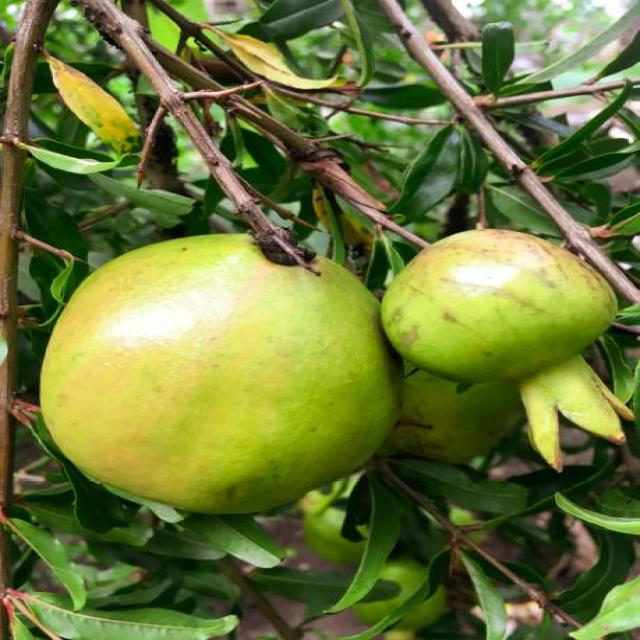Unripe: (35, 229, 402, 516), (382, 224, 640, 472)
